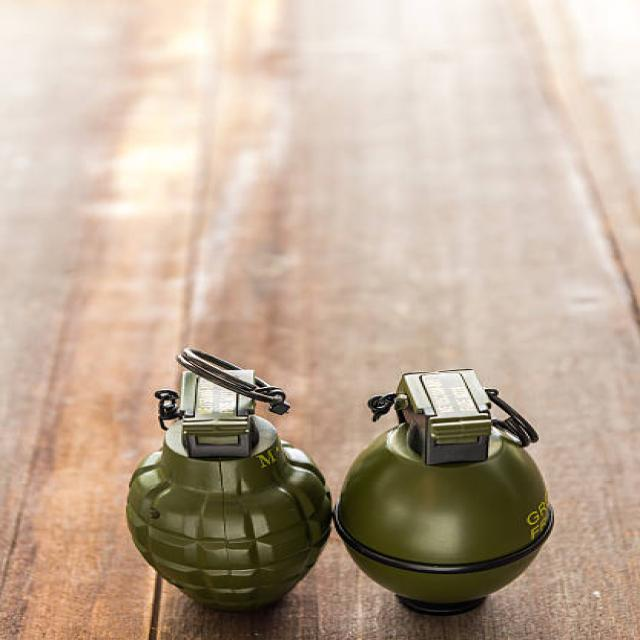grenade: (114, 347, 341, 615), (333, 367, 568, 620)
